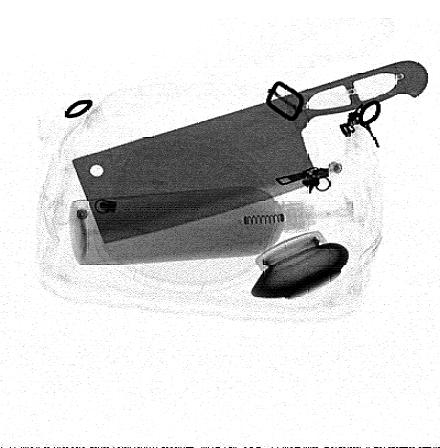Knife: (68, 58, 431, 246)
